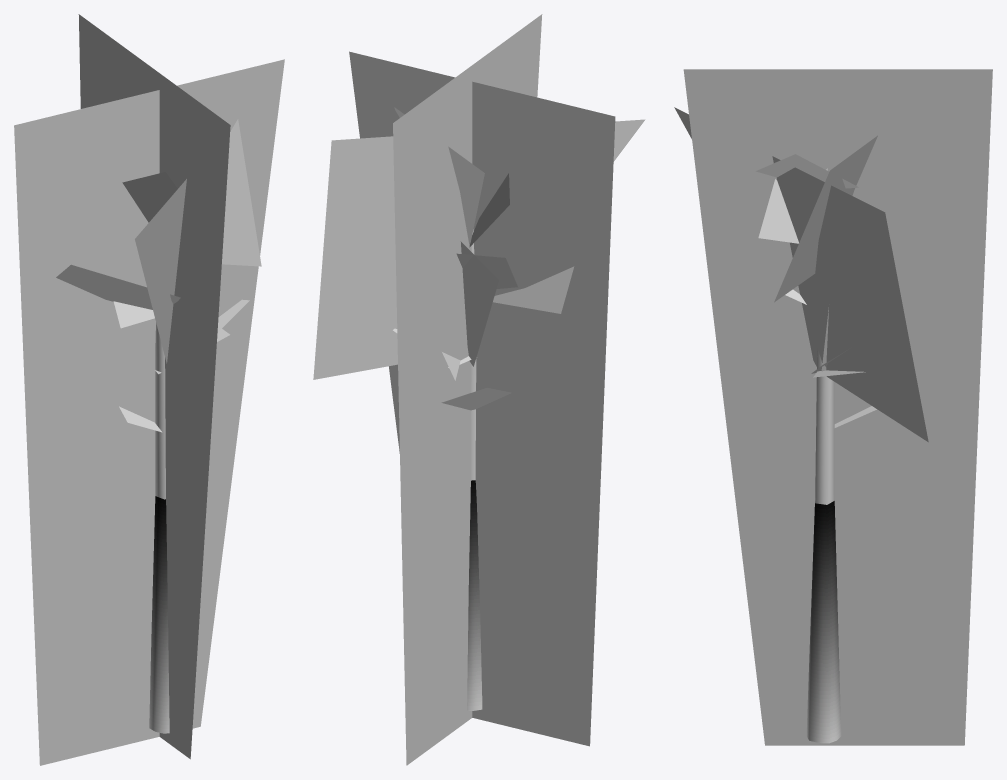
File: pine_tree_mesh_2.fbx
3 renders of one model, left to right at view 1: azimuth 30°, elevation 25°; view 2: azimuth 150°, elevation 25°; view 3: azimuth 270°, elevation 25°, orthographic. The views are drawn at different scales.
Parts seen in each view (by area): view 1: Cylinder.001, Cylinder.000; view 2: Cylinder.001, Cylinder.000; view 3: Cylinder.001, Cylinder.000.
Part boxes in pixels (box(x1,y1,x2,y2)): Cylinder.001: box(14, 14, 284, 765); Cylinder.000: box(56, 119, 261, 733); Cylinder.001: box(349, 14, 615, 765); Cylinder.000: box(313, 107, 645, 710); Cylinder.001: box(683, 69, 992, 745); Cylinder.000: box(674, 107, 928, 743).
Size of the model in its own units: 854 by 2000 by 855.
